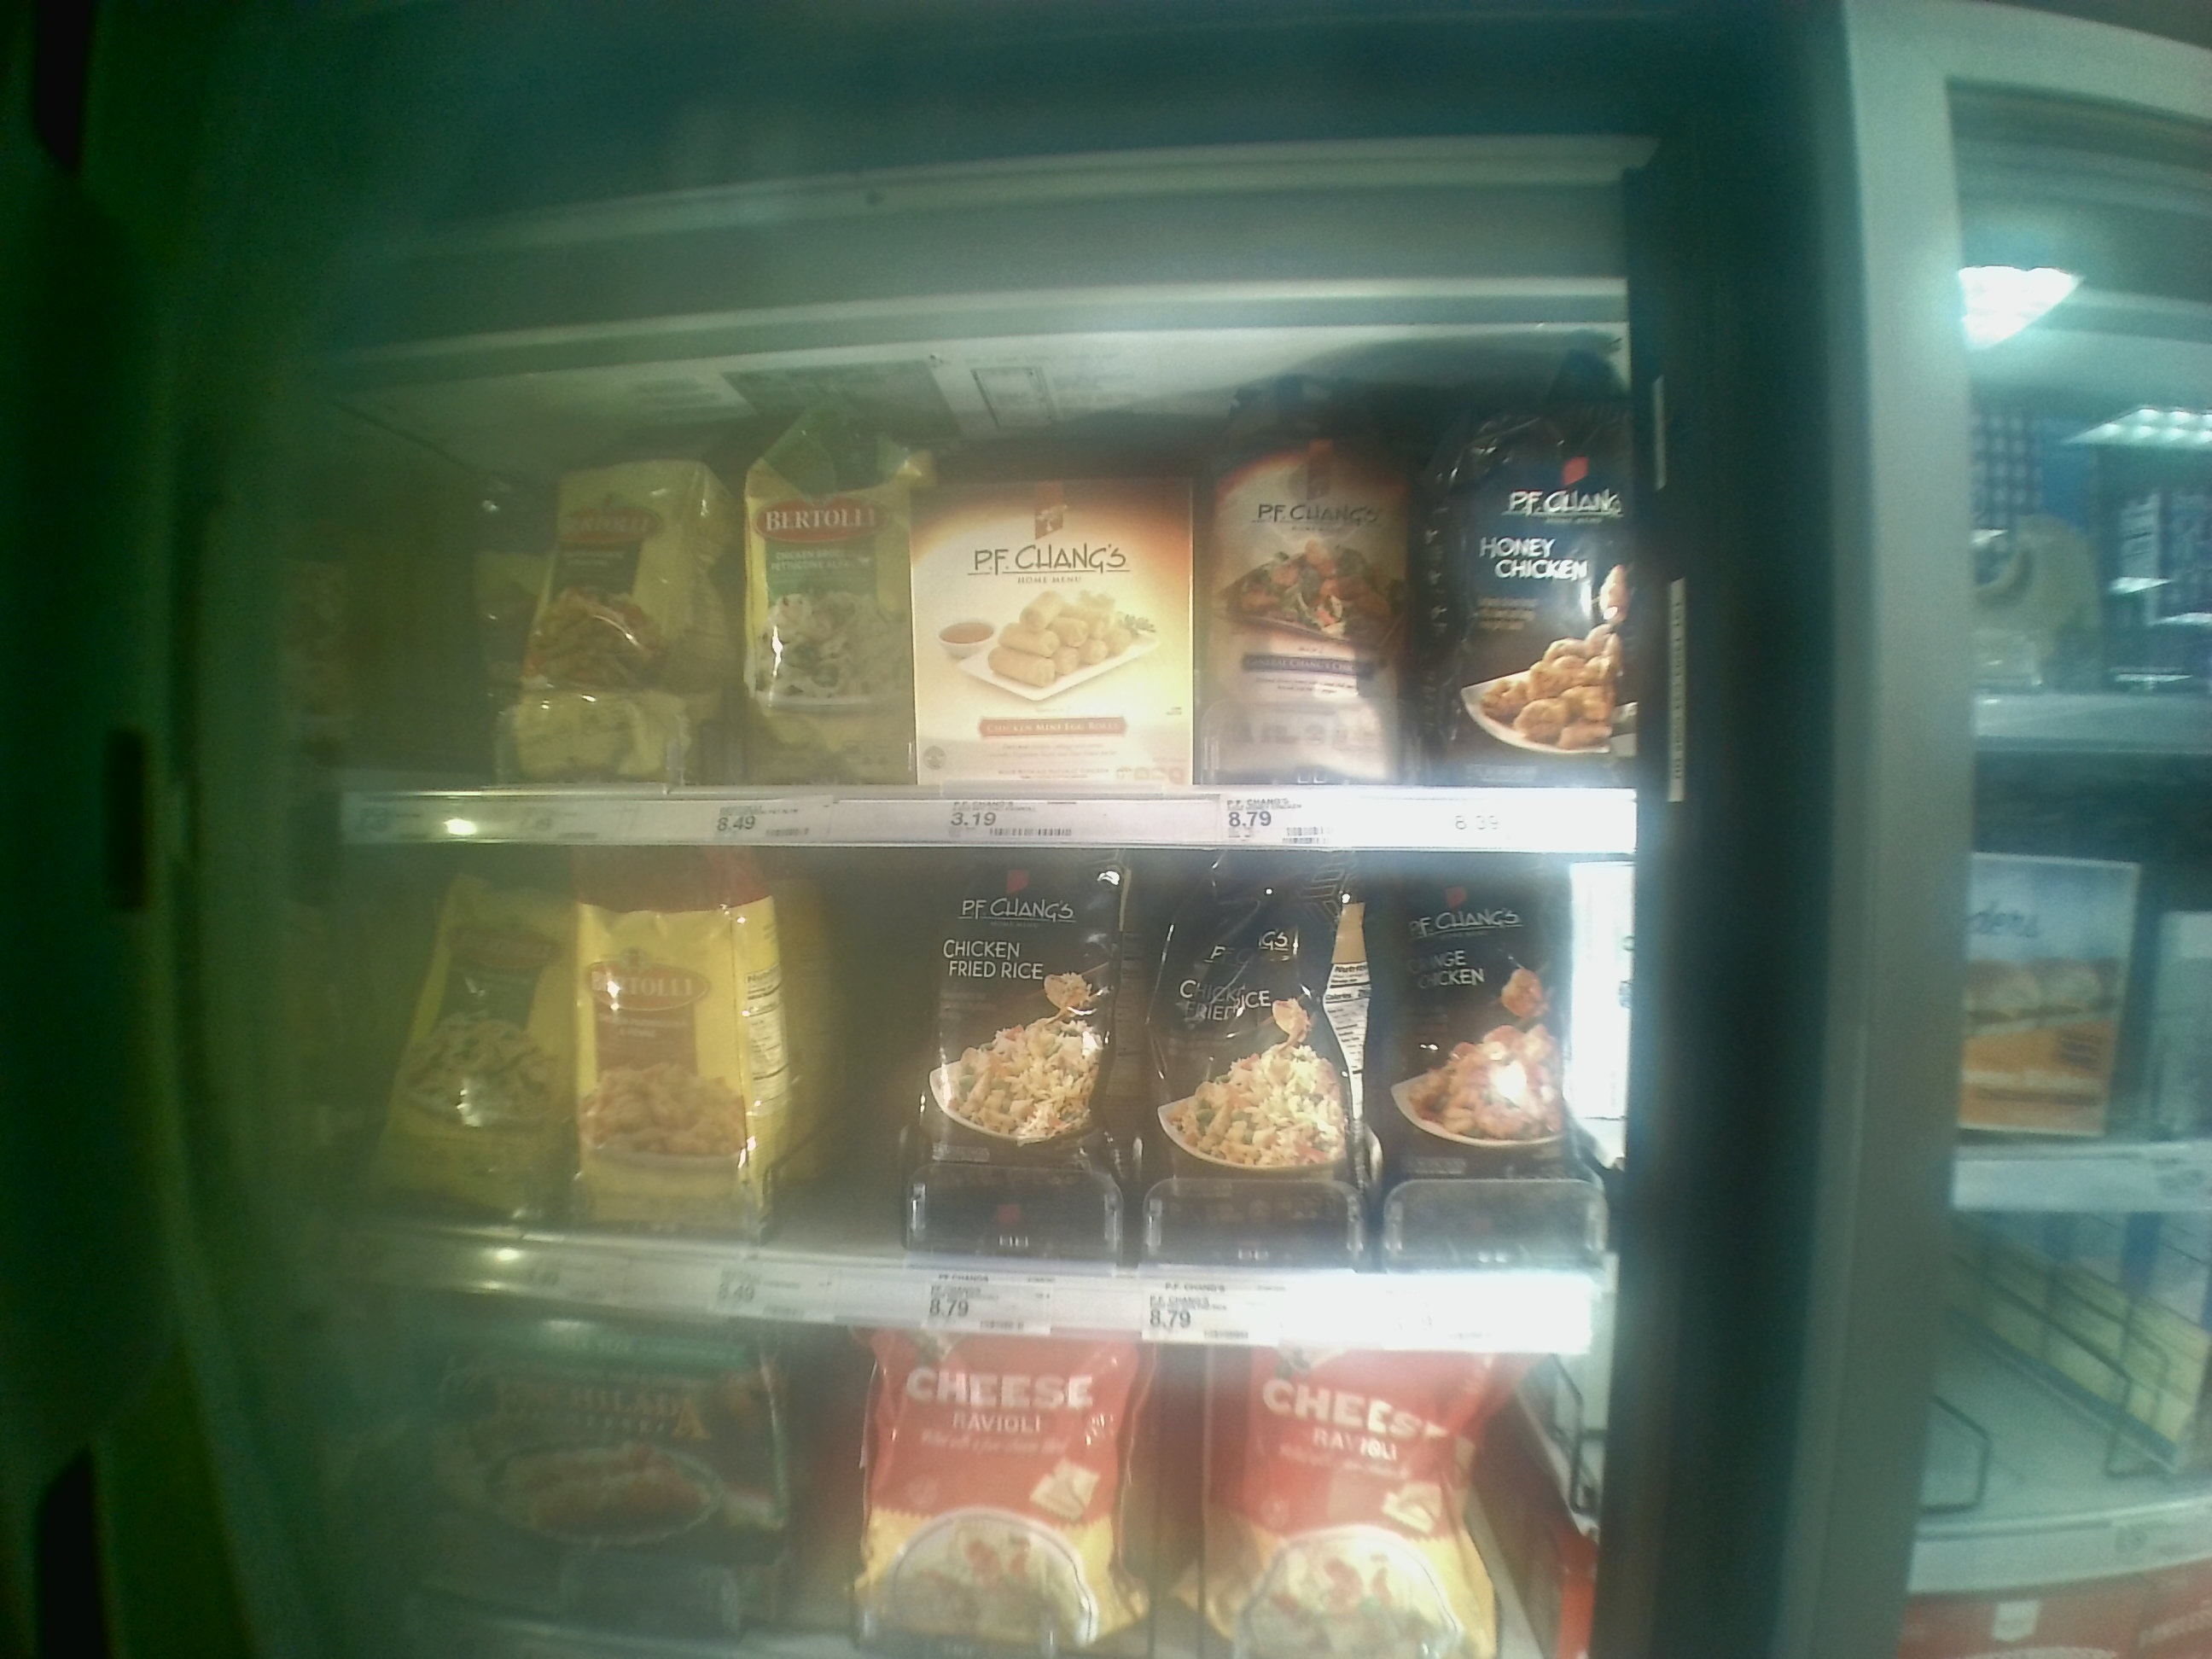shelf: (315, 204, 1655, 833), (314, 829, 1639, 1309)
